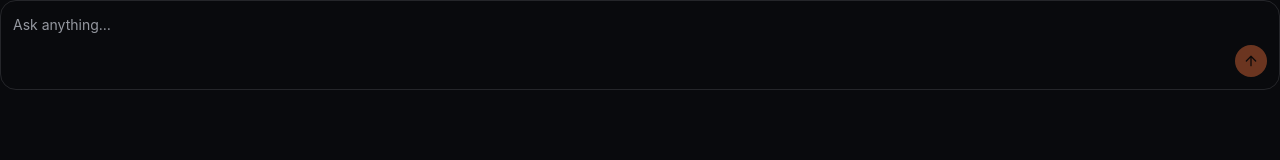
Test: AIPromptInput › keeps its own text when uncontrolled and clears it on send
Type "  hello  " into the text box named "Message". click: {"x": 640, "y": 25}
box: [13,13,1267,37]
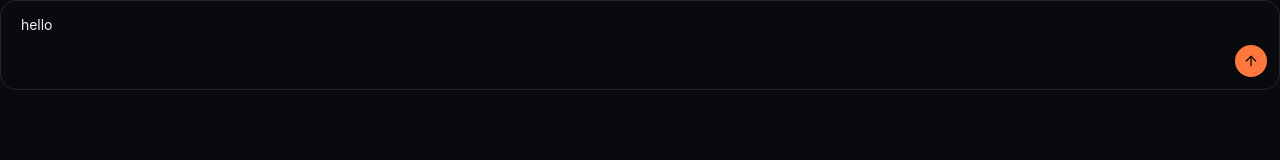
Click the button named "Send message". click: {"x": 1251, "y": 61}
box: [1235,45,1267,77]
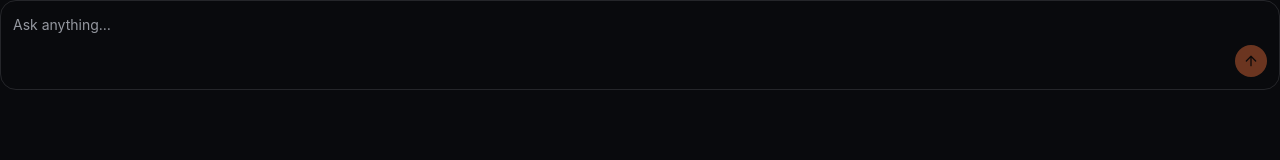
Expected: the text box named "Message" is empty, [13,13,1267,37]
